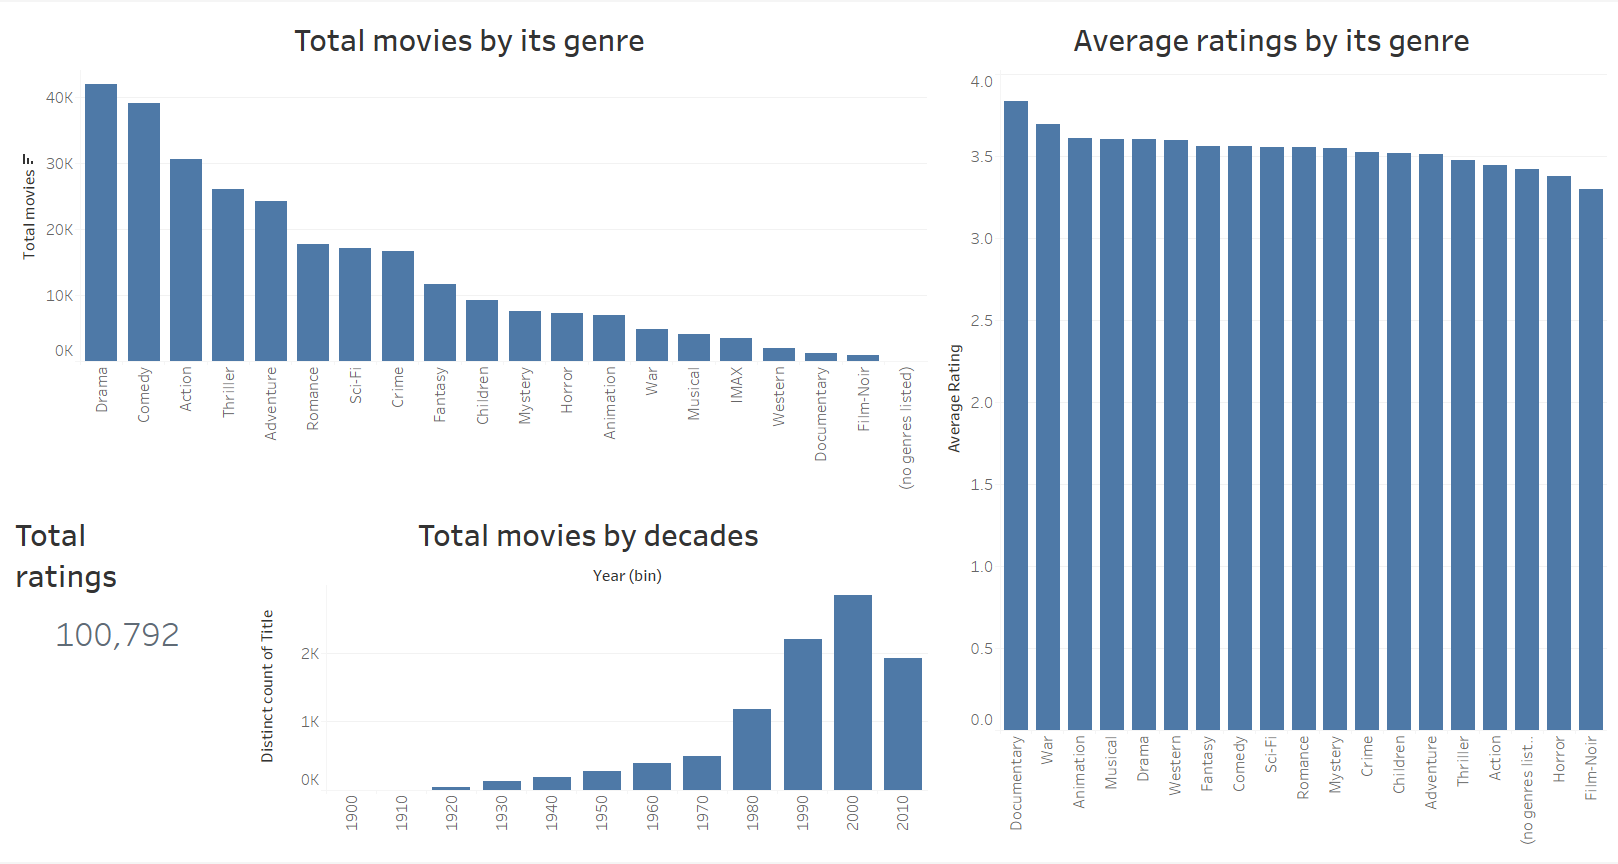

What the dashboard file says about the page in this screenshot:
{"tool":"tableau","page":{"name":"Dashboard 1","canvas":[1000,1000],"units":"permille","ordinal":0},"visuals":[{"type":"worksheet","box":[0,0,1000,1000]},{"type":"worksheet","title":"Sheet 4","mark":"Automatic","rows":["Total movies"],"cols":["F1 (total_movies_by_genre.csv)"],"box":[4.9,9.3,571,575.6]},{"type":"worksheet","title":"avg_ratings_by_genre","mark":"Automatic","rows":["rating (avg_rating_by_genre.csv)"],"cols":["sub_genre_1 (avg_rating_by_genre.csv)"],"box":[575.9,9.3,419.1,981.4]},{"type":"worksheet","title":"total_ratings","mark":"Automatic","box":[4.9,584.9,146.9,405.8]},{"type":"worksheet","title":"total_movies_by_decade","mark":"Automatic","rows":["title"],"cols":["Year (bin)"],"box":[151.8,584.9,424.1,405.8]}]}

Visuals, with their boxes on the dashboard's canvas, which has no fixed pixel size, in thousandths of its width and height (x1, y1, x2, y2). These are canvas units, not pixel positions in the 1618x864 screenshot, which may show the page scaled, cropped or inside an application window:
worksheet: 0:0:1000:1000
"Sheet 4" worksheet: 5:9:576:585
"avg_ratings_by_genre" worksheet: 576:9:995:991
"total_ratings" worksheet: 5:585:152:991
"total_movies_by_decade" worksheet: 152:585:576:991
